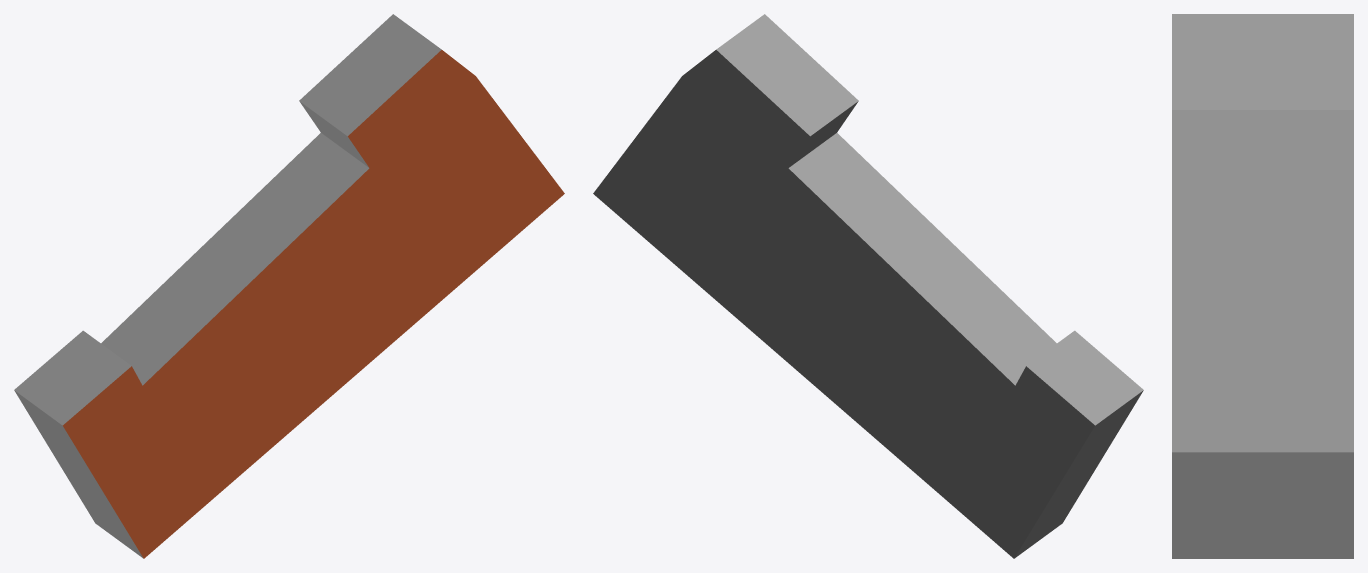
The model's file is construction_5206_assumed_A_Casa_h6m.obj.
3 views of the same model, side by side, from view 1: azimuth 30°, elevation 25°; view 2: azimuth 150°, elevation 25°; view 3: azimuth 270°, elevation 25° (orthographic). The views are drawn at different scales.
Parts seen in each view (by area): view 1: construction_5206_assumed_A_Casa; view 2: construction_5206_assumed_A_Casa; view 3: construction_5206_assumed_A_Casa.
Part boxes in pixels (x1,y1,x2,y2): construction_5206_assumed_A_Casa: (14, 14, 564, 558); construction_5206_assumed_A_Casa: (593, 14, 1143, 558); construction_5206_assumed_A_Casa: (1172, 14, 1353, 558).
Bounding box in the file's own units: 35.78 × 29.72 × 6.
